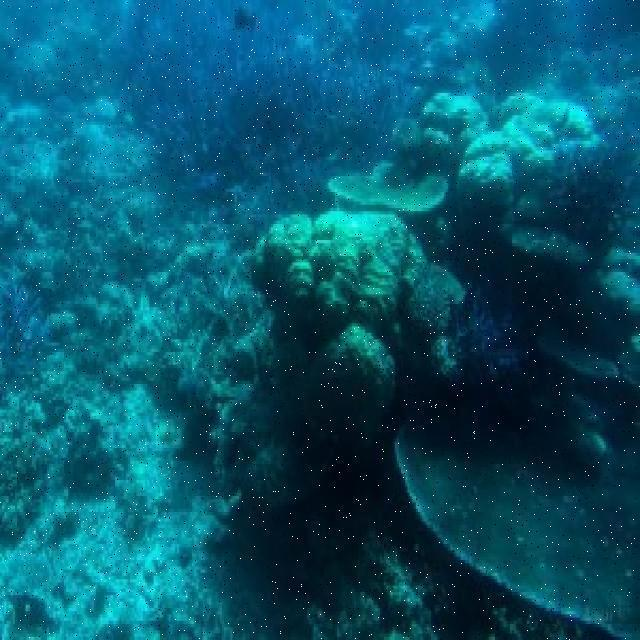Bleached: (420, 94, 588, 183), (311, 188, 401, 245)
Healthy: (267, 255, 640, 640), (139, 49, 407, 178), (553, 147, 636, 278), (1, 285, 63, 392)
